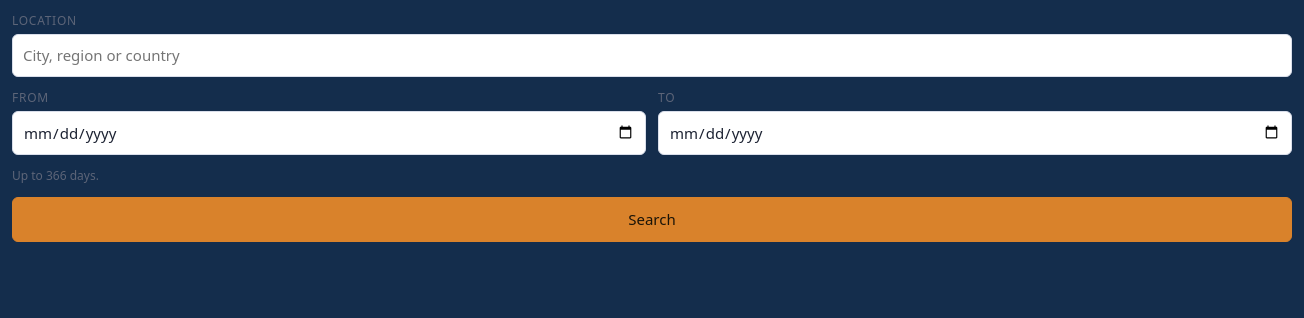
Test: SearchForm › asks to fill in all fields when one is missing
Type "Santiago" into the field labelled "Location" at {"x": 652, "y": 55}, box [12, 34, 1292, 76]
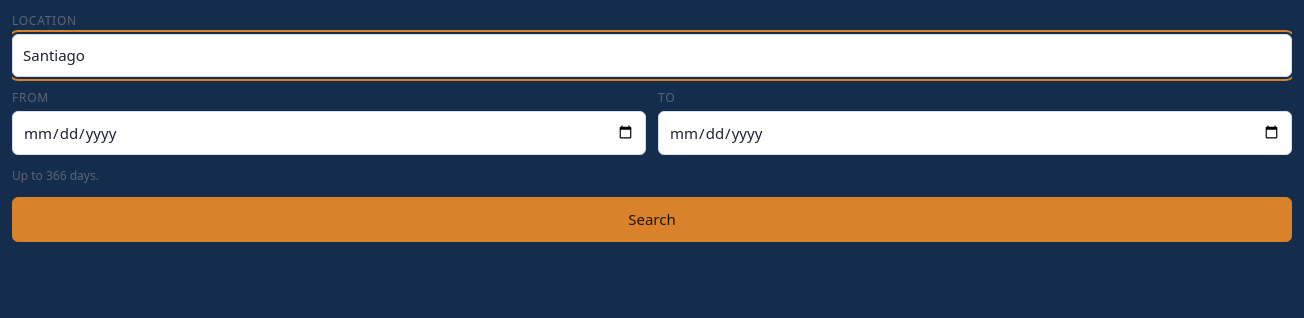
Type "2026-06-21" into the date field labelled "From" at {"x": 329, "y": 133}, box [12, 110, 646, 155]
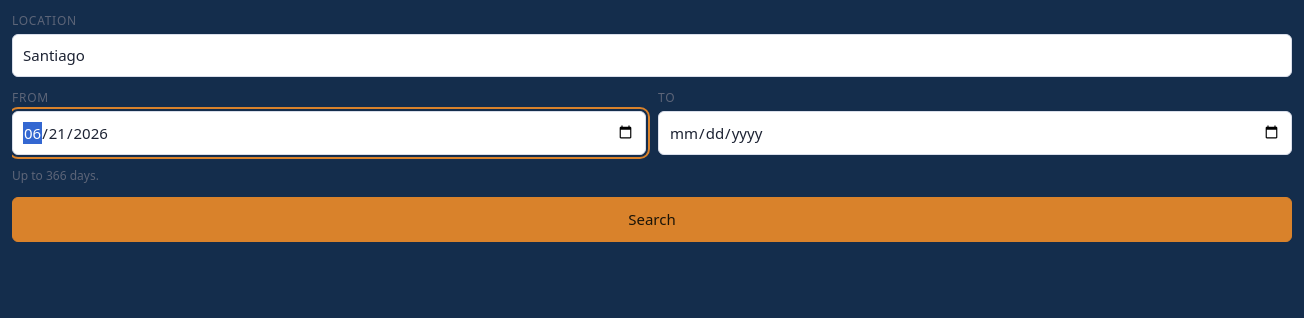
Click the button "Search" at {"x": 652, "y": 219}, box [12, 197, 1292, 242]
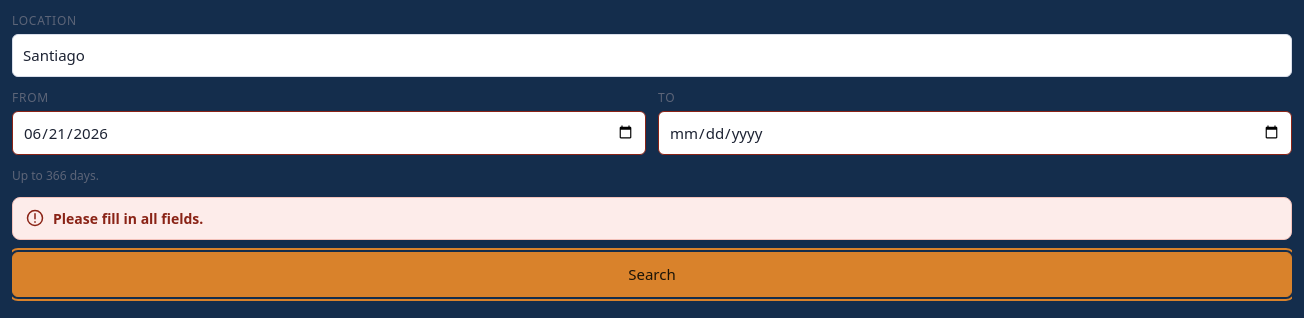
Now the message reads "Please fill in all fields.", box [53, 209, 203, 228]
